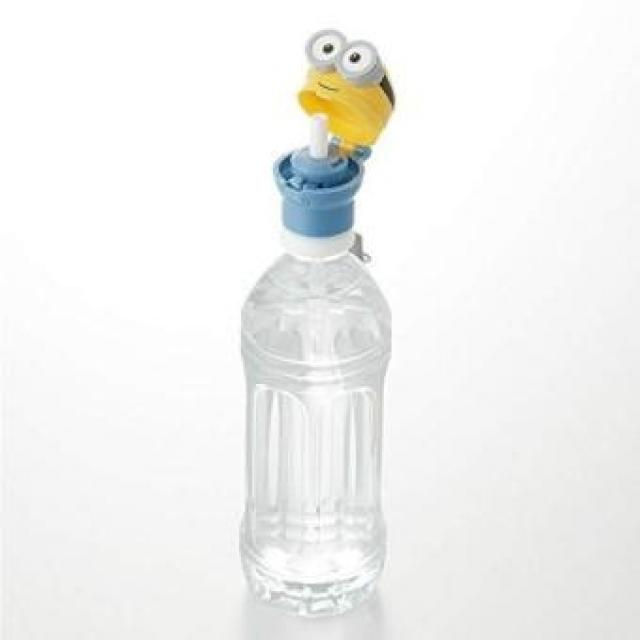bottle: (222, 31, 399, 635)
